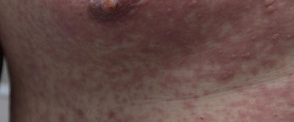SJS-TEN: (23, 0, 294, 122)
